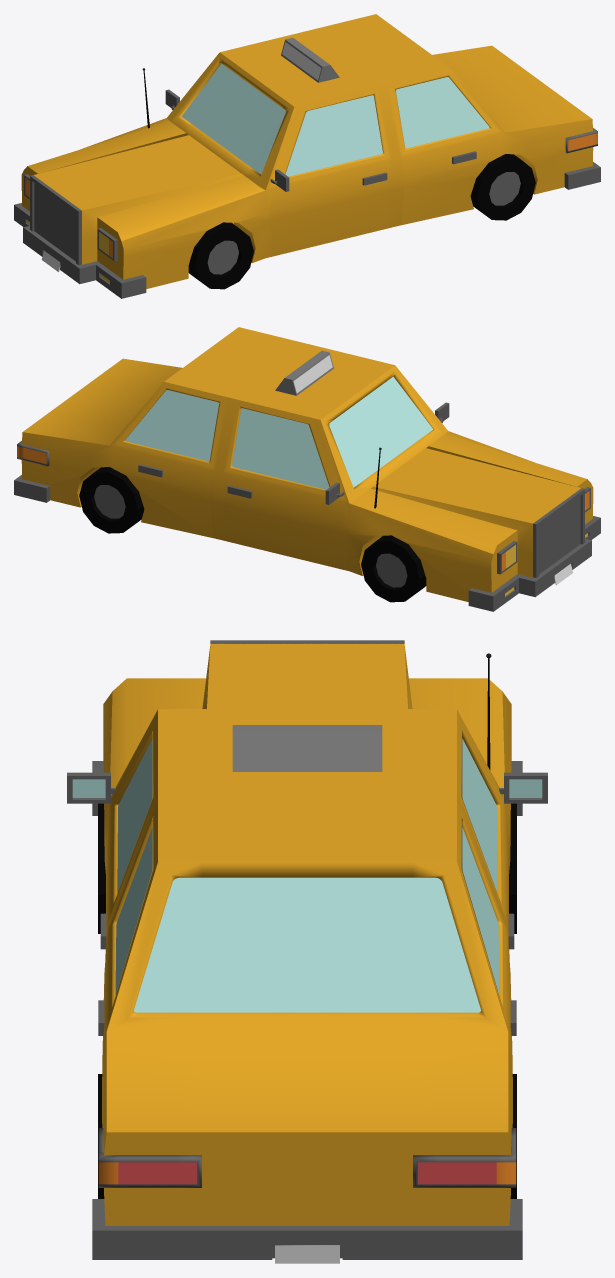
Rendered from Bart.fbx.
3 renders of one model, top to bottom at view 1: azimuth 30°, elevation 25°; view 2: azimuth 150°, elevation 25°; view 3: azimuth 270°, elevation 25°, orthographic. The views are drawn at different scales.
Parts seen in each view (by area): view 1: Bartholomew; view 2: Bartholomew; view 3: Bartholomew.
Boxes of the visible parts, x1=… form: Bartholomew: x1=14, y1=14, x2=600, y2=298; Bartholomew: x1=14, y1=327, x2=600, y2=611; Bartholomew: x1=67, y1=640, x2=547, y2=1263.
Size of the model in its own units: 715 by 228 by 299.
